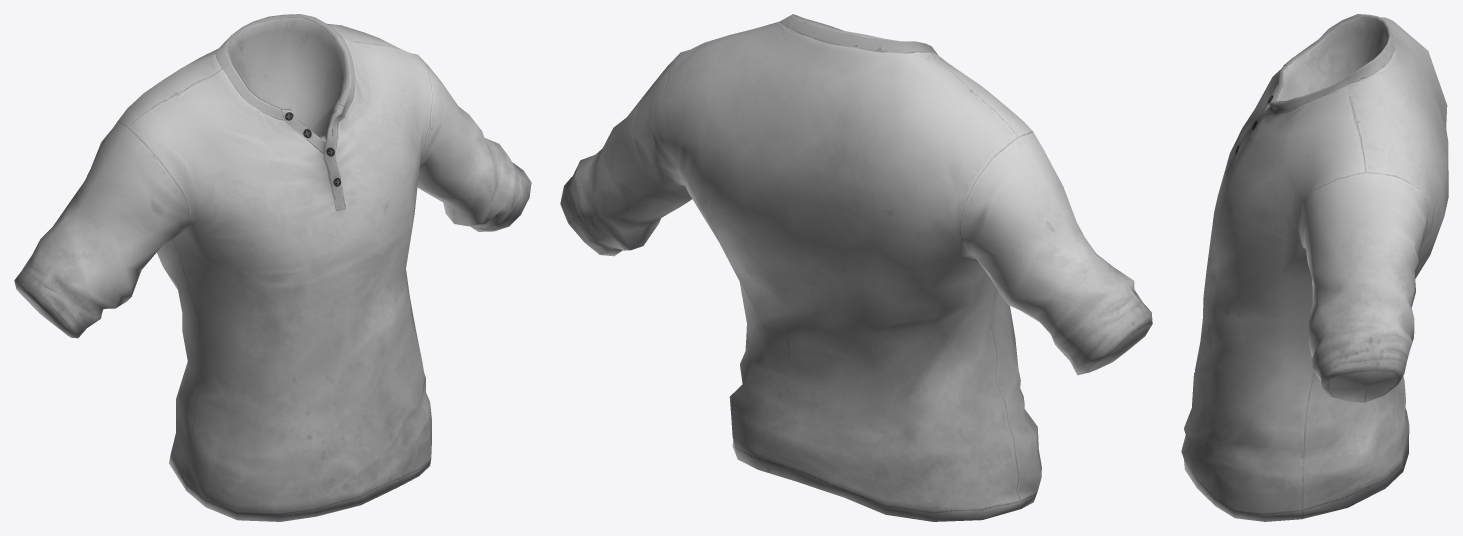
File: SurvivorMale_Chest_Shirt_Henley_LOD0.glb
3 views of the same model, side by side, from view 1: azimuth 30°, elevation 25°; view 2: azimuth 150°, elevation 25°; view 3: azimuth 270°, elevation 25° (orthographic). The views are drawn at different scales.
Parts seen in each view (by area): view 1: Hoodie; view 2: Hoodie; view 3: Hoodie.
Boxes of the visible parts, box(x1,y1,x2,y2) form: Hoodie: box(14, 14, 531, 521); Hoodie: box(560, 14, 1152, 521); Hoodie: box(1181, 14, 1448, 521).
Bounding box in the file's own units: 0.7954 × 0.6525 × 0.354.
Materials: 1 (1 with a texture image).
